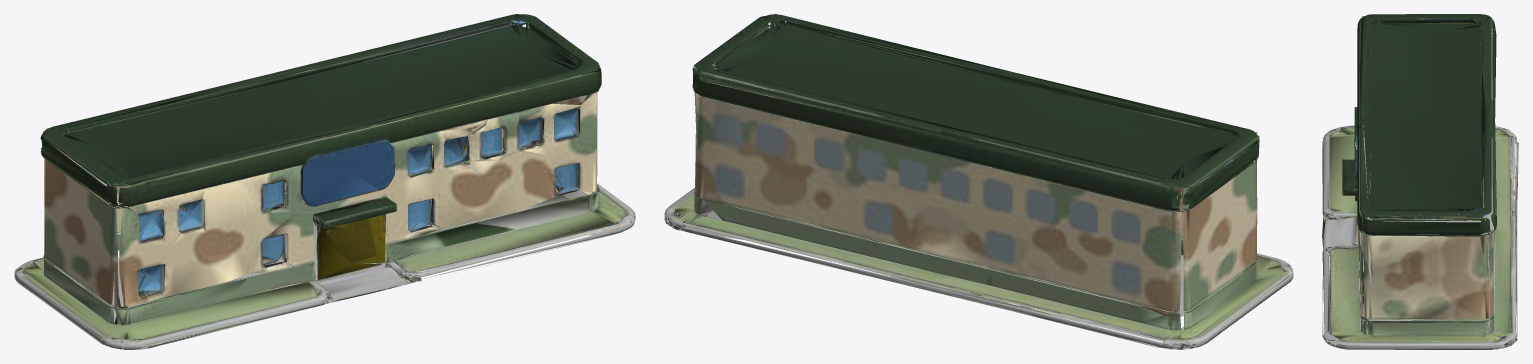
Rendered from grenade-barracks-low.glb.
3 renders of one model, left to right at view 1: azimuth 30°, elevation 25°; view 2: azimuth 150°, elevation 25°; view 3: azimuth 270°, elevation 25°, orthographic. The views are drawn at different scales.
Size of the model in its own units: 0.9493 by 0.2532 by 0.3589.
Materials: 1 (1 with a texture image).
